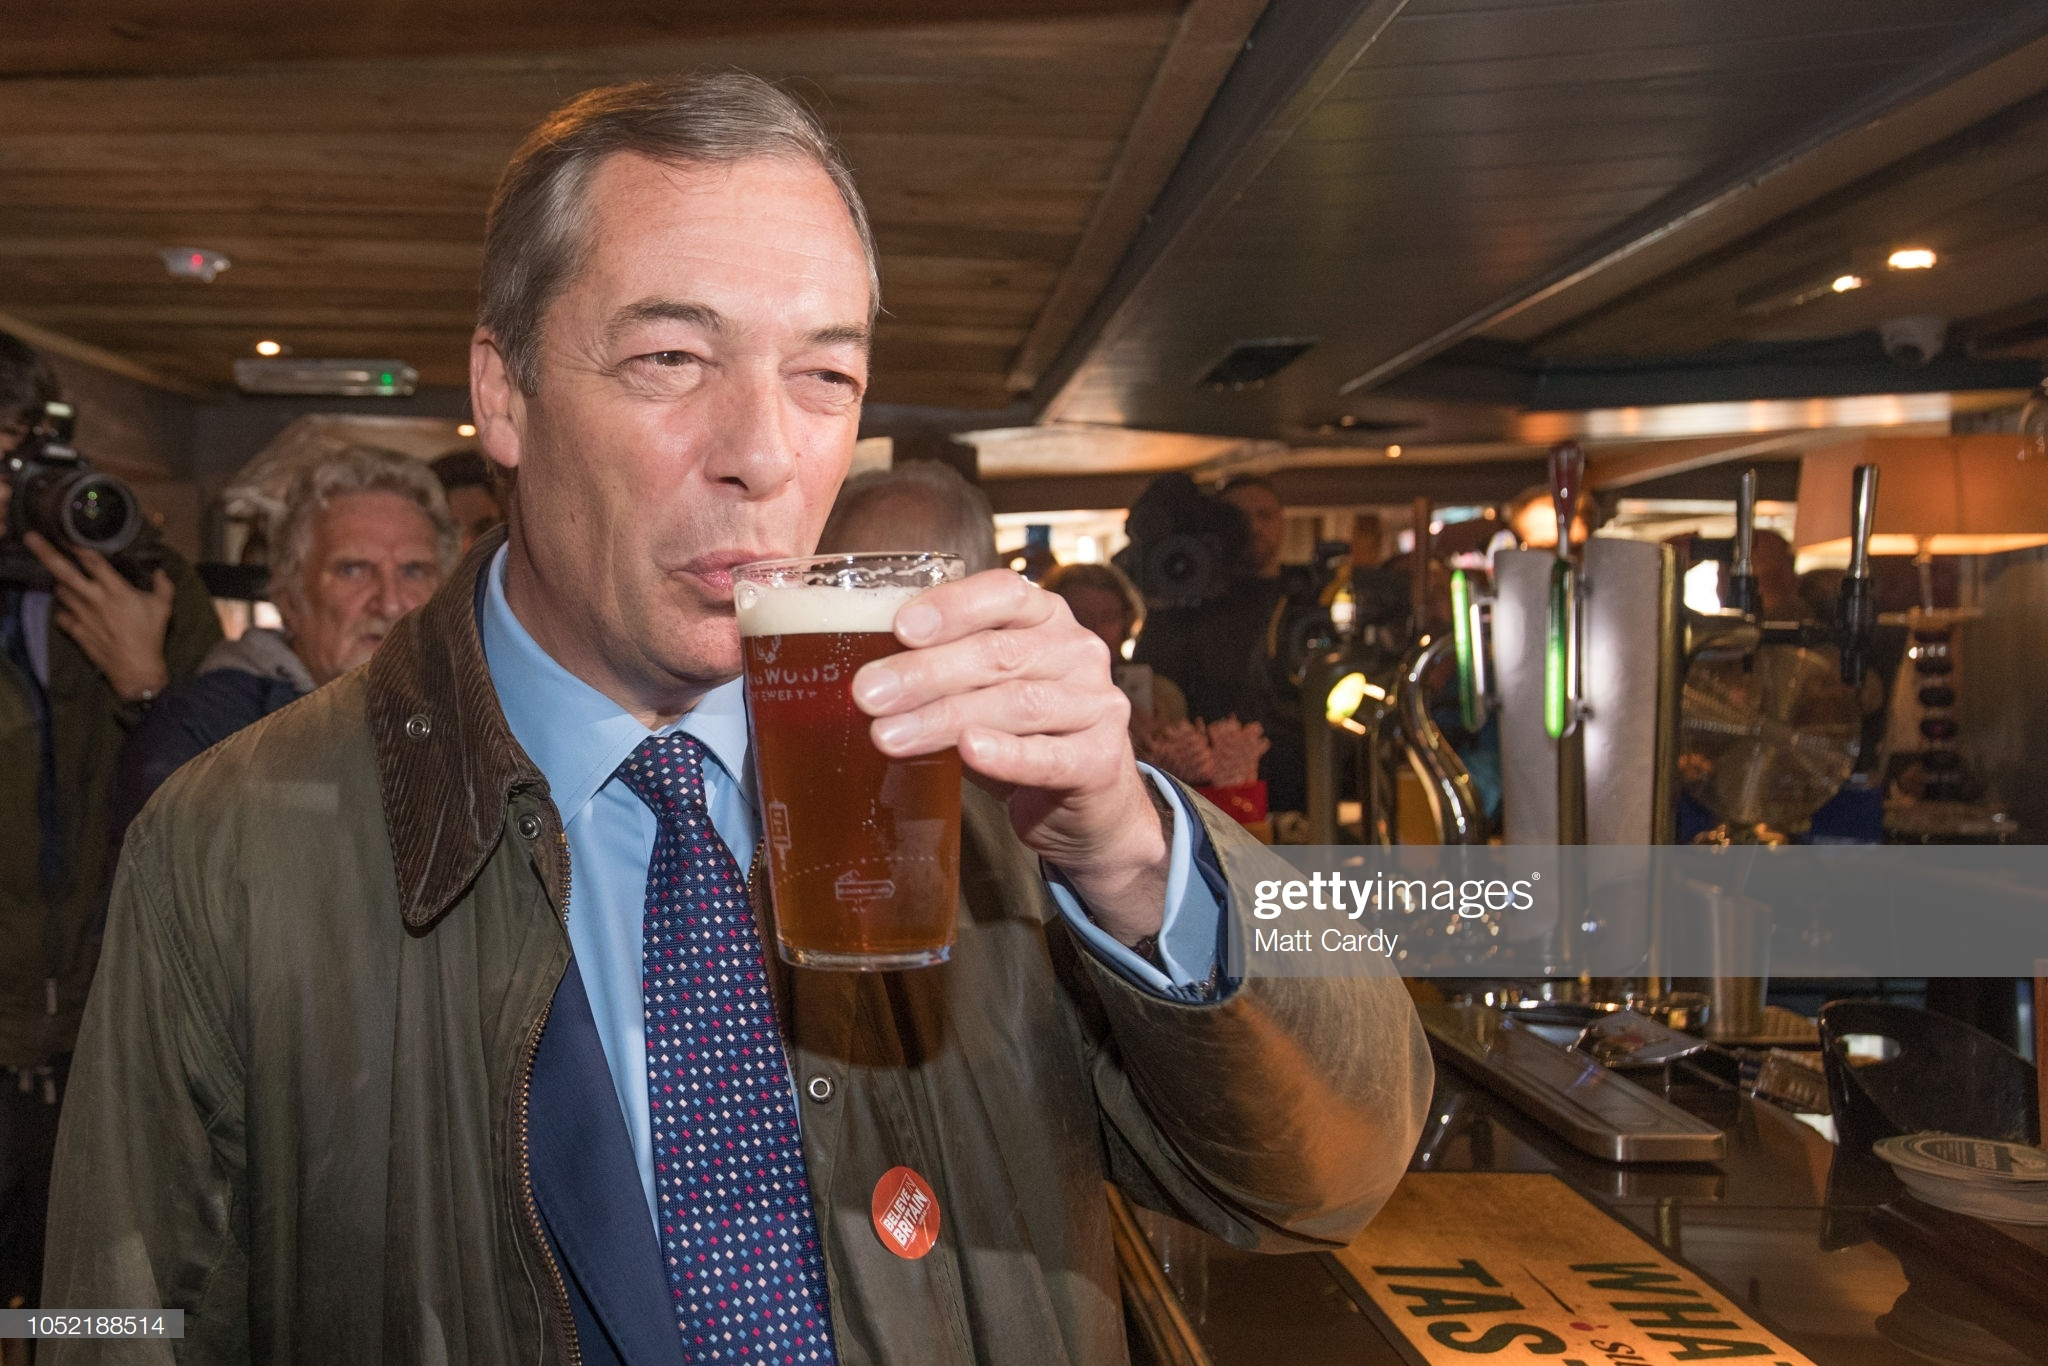glassBeer: (747, 544, 974, 983)
